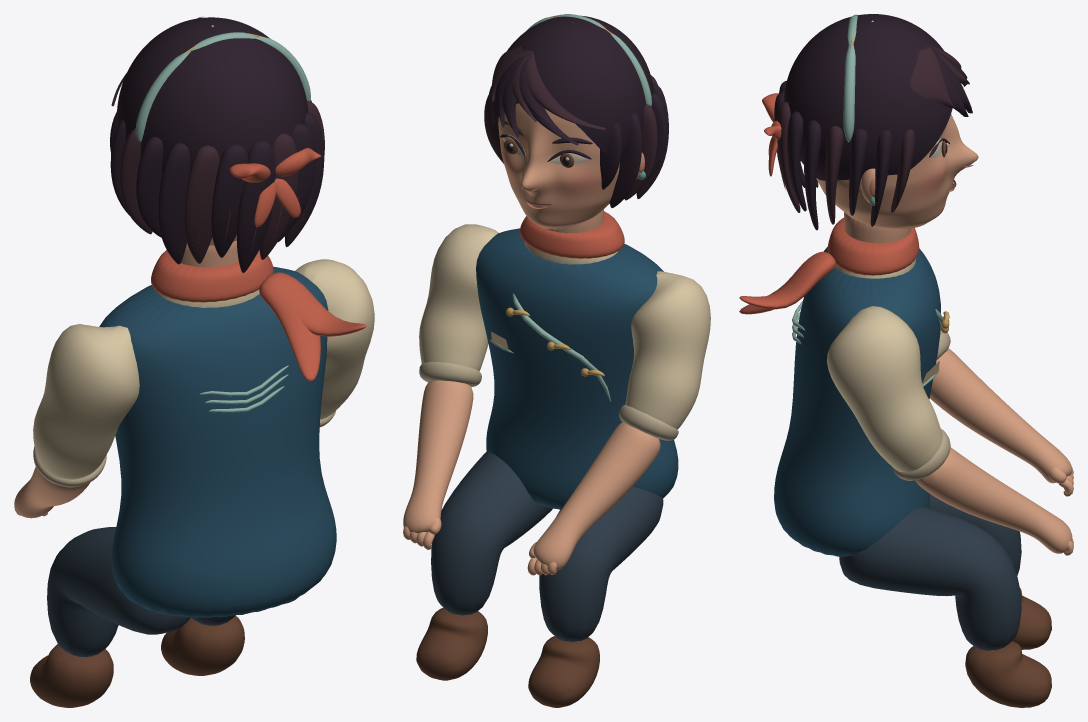
File: river-pilot.glb
3 renders of one model, left to right at view 1: azimuth 30°, elevation 25°; view 2: azimuth 150°, elevation 25°; view 3: azimuth 270°, elevation 25°, orthographic. The views are drawn at different scales.
Parts seen in each view (by area): view 1: ALanBody, ALanHead; view 2: ALanBody, ALanHead; view 3: ALanBody, ALanHead.
Part boxes in pixels (left/top/right/bottom): ALanBody: left=14, top=240, right=374, bottom=707; ALanHead: left=110, top=17, right=324, bottom=272; ALanBody: left=403, top=209, right=710, bottom=707; ALanHead: left=484, top=14, right=668, bottom=229; ALanBody: left=739, top=212, right=1073, bottom=707; ALanHead: left=762, top=14, right=978, bottom=230.
Bounding box in the file's own units: 0.8229 × 1.79 × 0.8284.
